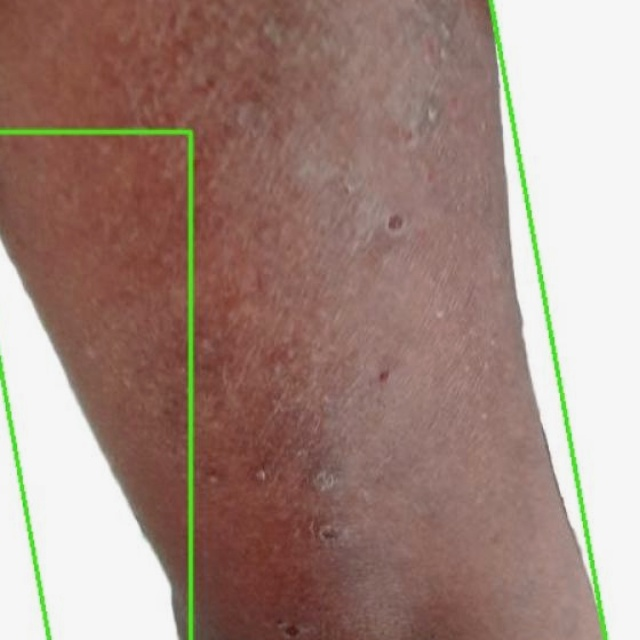Contact Dermatitis: (0, 0, 603, 639), (0, 131, 189, 639)
